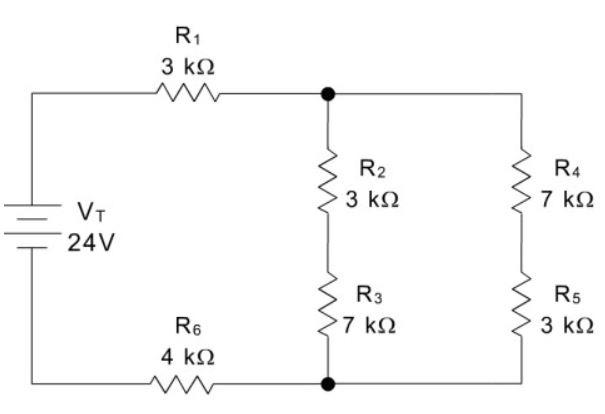Battery: (3, 191, 67, 268)
